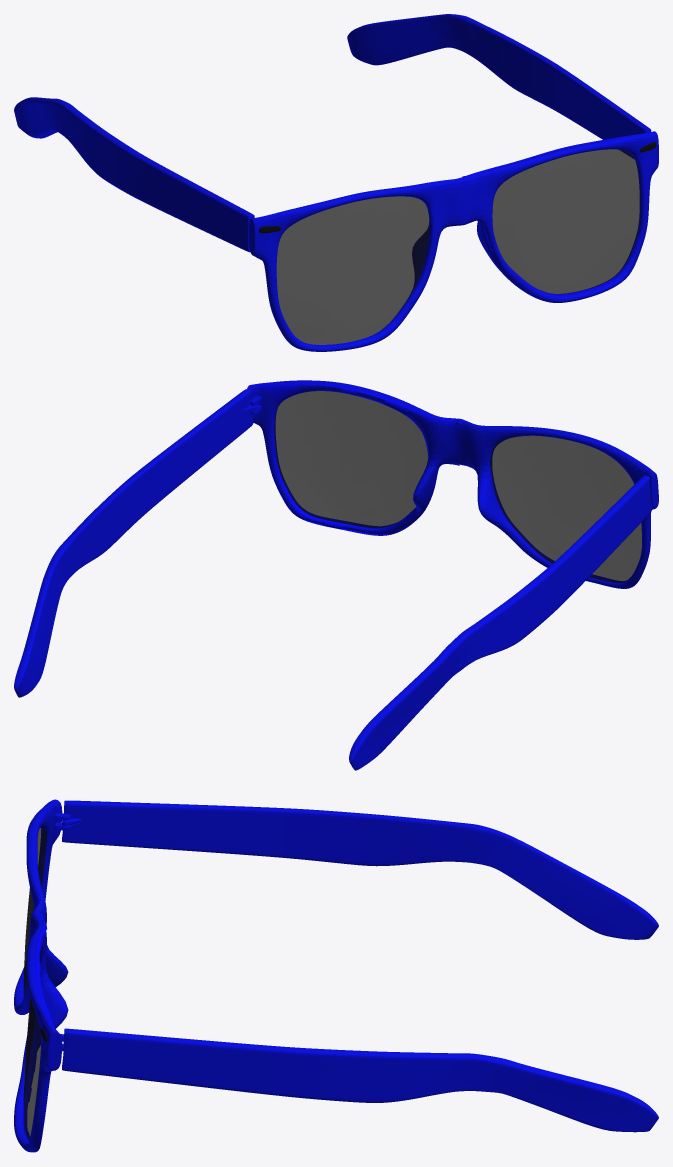
File: blue.glb
3 views of the same model, one above another, from view 1: azimuth 30°, elevation 25°; view 2: azimuth 150°, elevation 25°; view 3: azimuth 270°, elevation 25° (orthographic). The views are drawn at different scales.
Parts seen in each view (by area): view 1: glass, glass_Black_0.001; view 2: glass, glass_Black_0.001; view 3: glass, glass_Black_0.001.
Part boxes in pixels (x1,y1,x2,y2): glass: (14,14,658,351); glass_Black_0.001: (462,132,650,294); glass: (14,380,658,770); glass_Black_0.001: (253,382,459,535); glass: (14,799,658,1152); glass_Black_0.001: (22,816,71,1152).
Bounding box in the file's own units: 0.1569 × 0.0545 × 0.1848.
